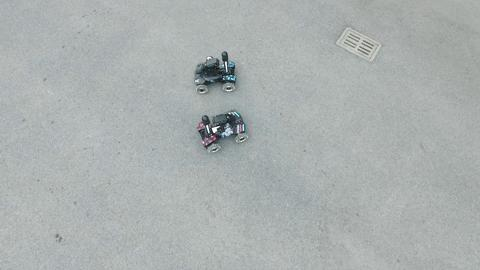chariot: (191, 111, 252, 155), (188, 49, 239, 97)
